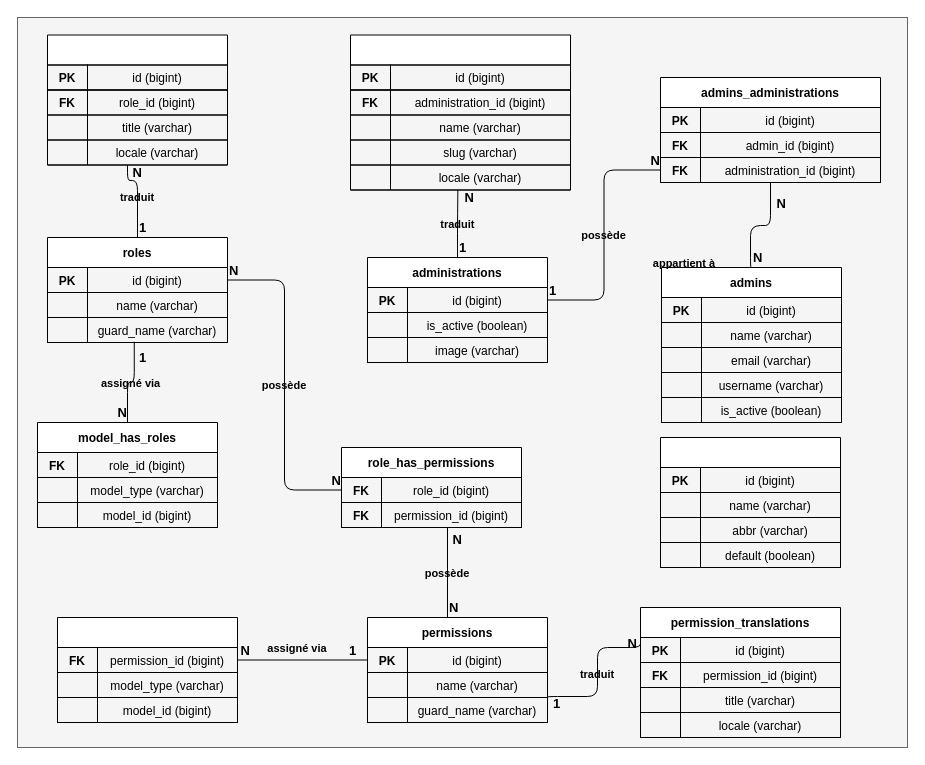
Some shapes in this 925 by 765 pixel diagram are drawn without their labels. The shapes that lost their labels are listed below. From the top down, each one's box as (x1, y1, x2, y2) in pixels, then its label:
(46, 34, 228, 165): role_translations
(350, 34, 570, 190): administration_translations
(660, 436, 840, 568): languages
(56, 616, 238, 722): model_has_permissions
